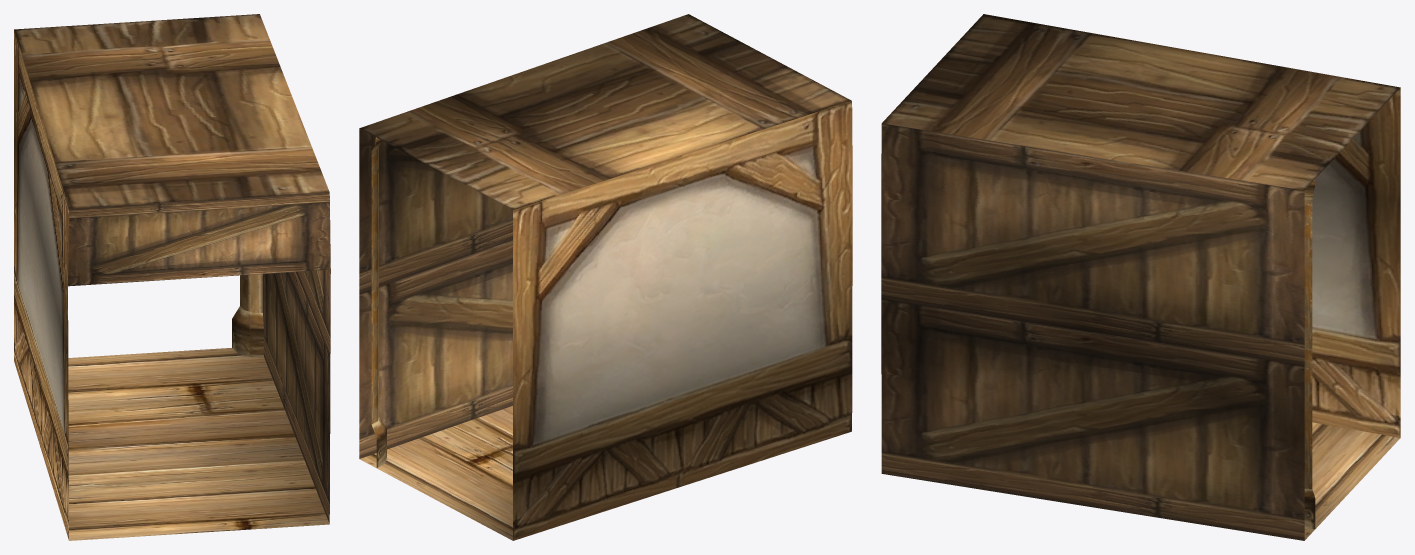
The model's file is stormwind_228.fbx.
3 renders of one model, left to right at view 1: azimuth 30°, elevation 25°; view 2: azimuth 150°, elevation 25°; view 3: azimuth 270°, elevation 25°, orthographic. The views are drawn at different scales.
Visible parts, largest first — view 1: stormwind_228_55, stormwind_228_51, stormwind_228_56, stormwind_228_48, stormwind_228_53; view 2: stormwind_228_48, stormwind_228_55, stormwind_228_56, stormwind_228_51, stormwind_228_53; view 3: stormwind_228_56, stormwind_228_55, stormwind_228_48, stormwind_228_51, stormwind_228_53.
Part boxes in pixels (bbox=[...]): stormwind_228_55: bbox=[14, 14, 329, 208]; stormwind_228_51: bbox=[68, 348, 329, 540]; stormwind_228_56: bbox=[68, 192, 330, 523]; stormwind_228_48: bbox=[14, 30, 68, 539]; stormwind_228_53: bbox=[232, 274, 263, 357]; stormwind_228_48: bbox=[513, 101, 852, 540]; stormwind_228_55: bbox=[359, 14, 851, 209]; stormwind_228_56: bbox=[359, 128, 512, 458]; stormwind_228_51: bbox=[359, 406, 512, 540]; stormwind_228_53: bbox=[371, 137, 386, 467]; stormwind_228_56: bbox=[881, 123, 1304, 540]; stormwind_228_55: bbox=[882, 14, 1400, 190]; stormwind_228_48: bbox=[1312, 88, 1400, 437]; stormwind_228_51: bbox=[1304, 422, 1400, 540]; stormwind_228_53: bbox=[1304, 180, 1315, 529].
Bounding box in the file's own units: 6.44 × 5.95 × 7.99.
